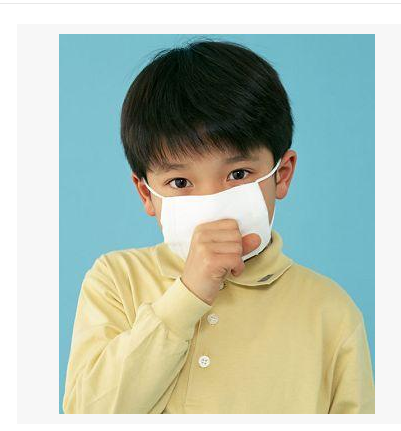face_mask: (148, 114, 273, 272)
